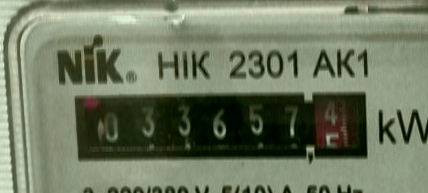0: (98, 108, 119, 145)
3: (136, 104, 155, 139), (172, 102, 190, 137)
4: (319, 97, 338, 127)
5: (242, 100, 264, 136)
6: (206, 105, 226, 140)
7: (279, 102, 297, 138)
screen: (60, 85, 374, 168)
